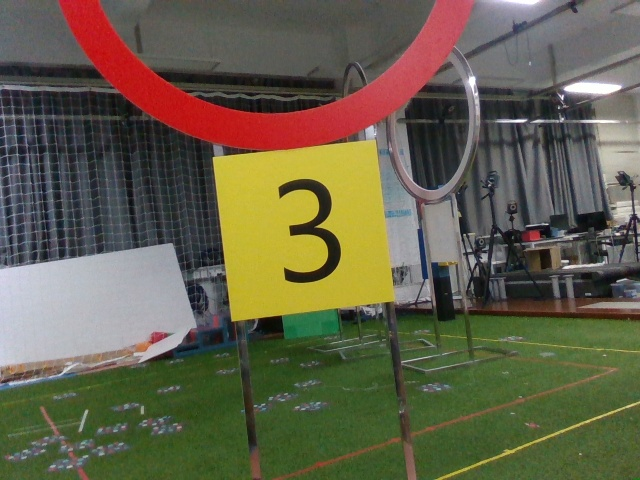target: (221, 149, 374, 307)
